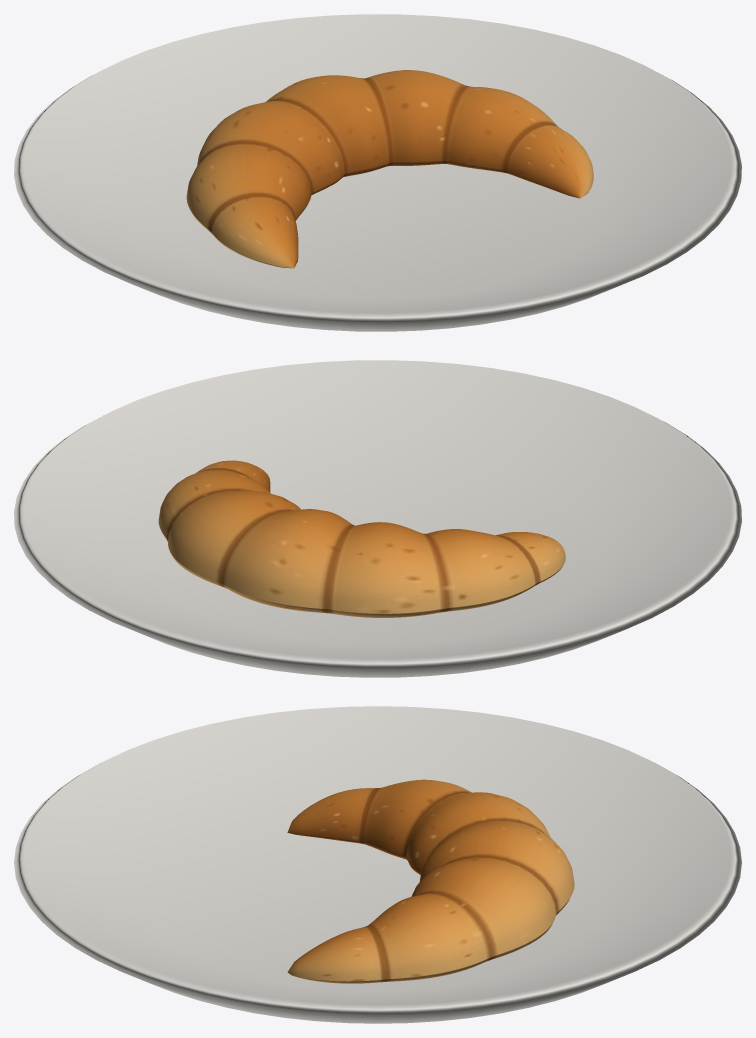
Rendered from medialunas.glb.
3 views of the same model, one above another, from view 1: azimuth 30°, elevation 25°; view 2: azimuth 150°, elevation 25°; view 3: azimuth 270°, elevation 25° (orthographic).
Bounding box in the file's own units: 0.18 × 0.0248 × 0.18.
Materials: 2 (1 with a texture image).
